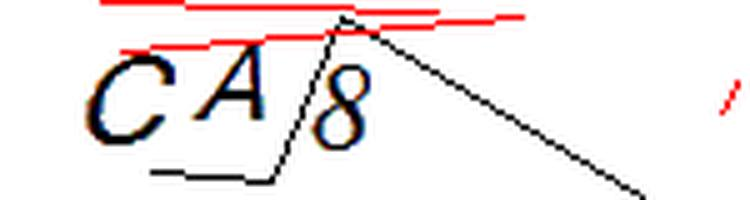8: (305, 57, 386, 160)
A: (189, 37, 282, 135)
C: (77, 46, 182, 152)
